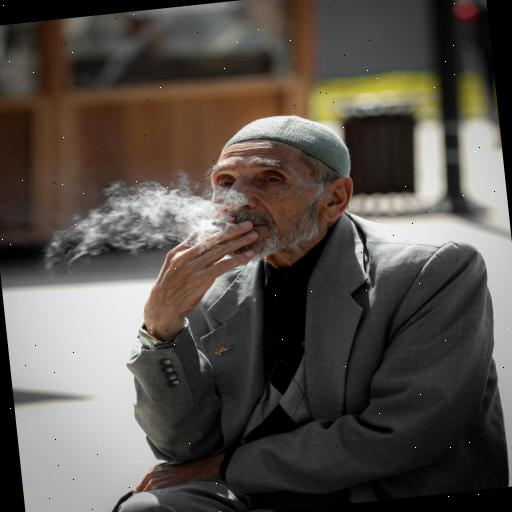terdeteksi merokok: (192, 152, 292, 262)
